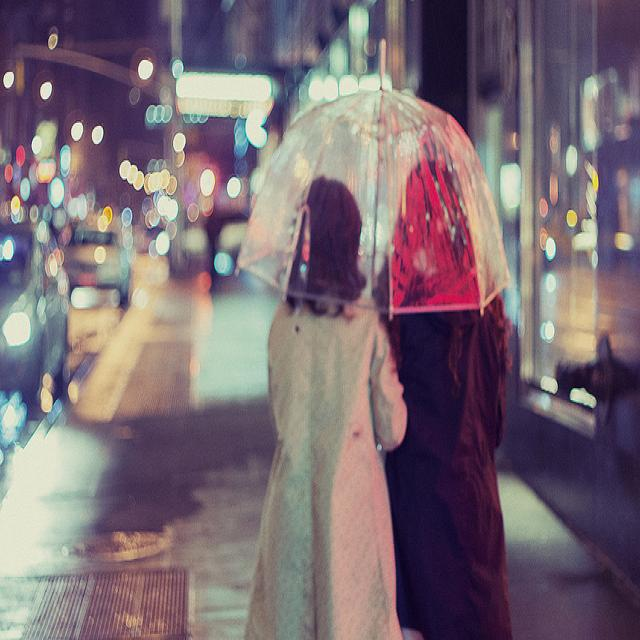Vehicle: (0, 207, 73, 435), (62, 224, 132, 310)
